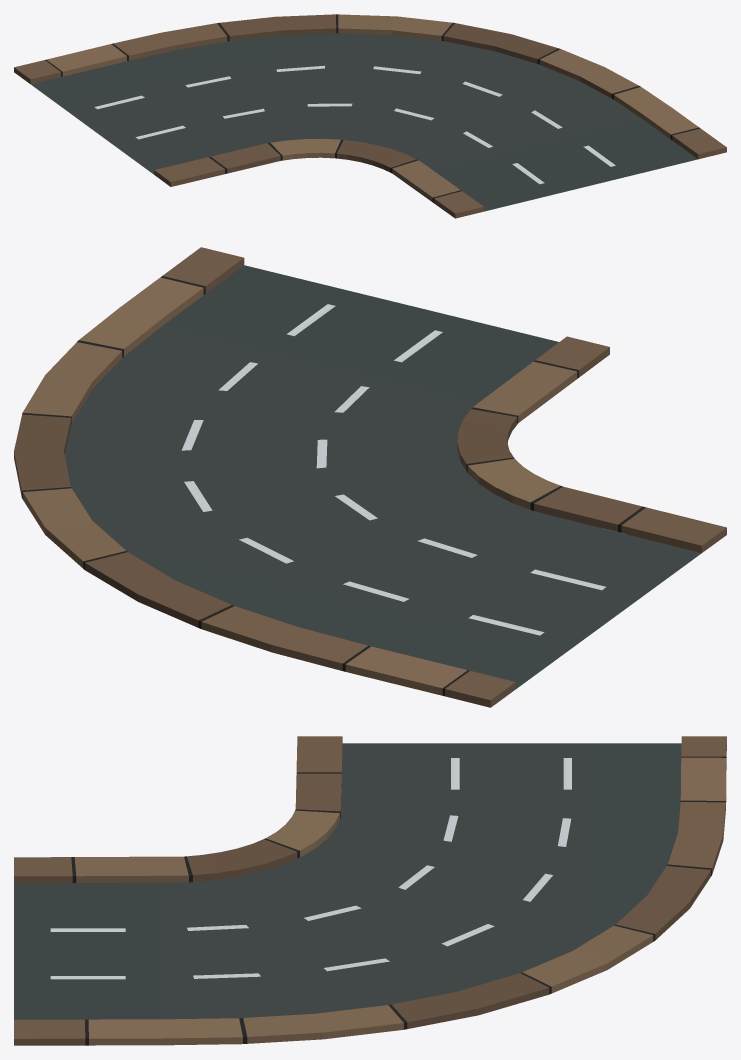
The model's file is Road_1_308.fbx.
3 renders of one model, top to bottom at view 1: azimuth 30°, elevation 25°; view 2: azimuth 150°, elevation 25°; view 3: azimuth 270°, elevation 25°, orthographic. The views are drawn at different scales.
Visible parts, largest first — view 1: Road_1_308; view 2: Road_1_308; view 3: Road_1_308.
Part boxes in pixels (x1=…): Road_1_308: x1=14, y1=14, x2=726, y2=218; Road_1_308: x1=14, y1=247, x2=726, y2=707; Road_1_308: x1=14, y1=736, x2=726, y2=1045.
Size of the model in its own units: 2854 by 30 by 2842.
